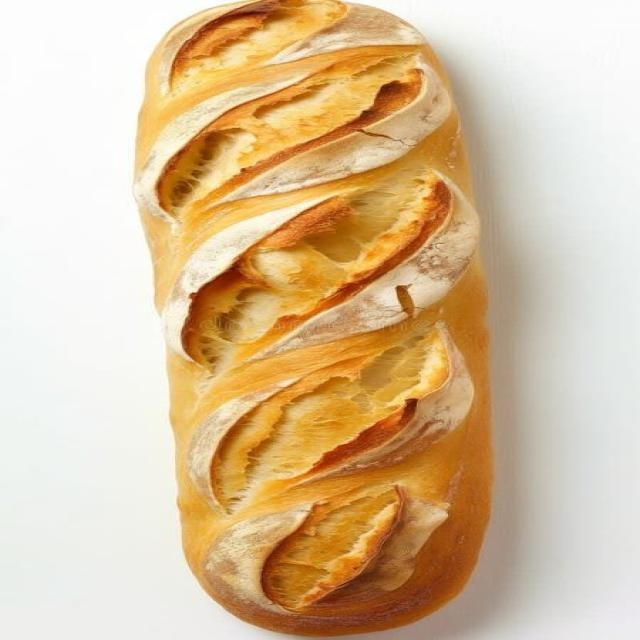bread: (136, 0, 490, 635)
